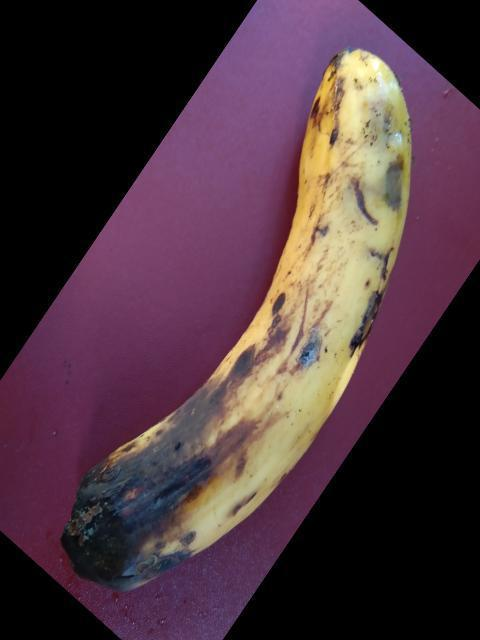rotten: (33, 44, 414, 619)
